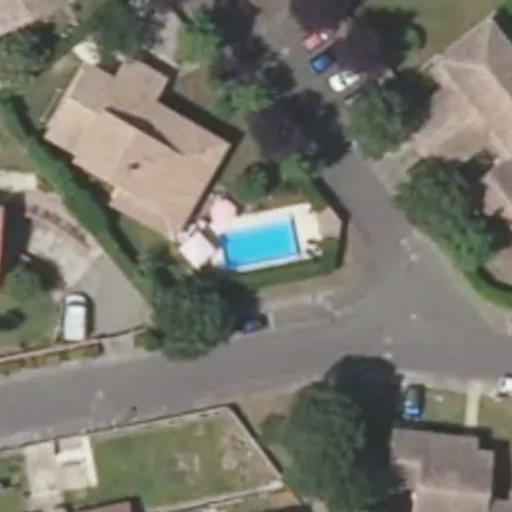pool: (213, 230, 298, 253)
